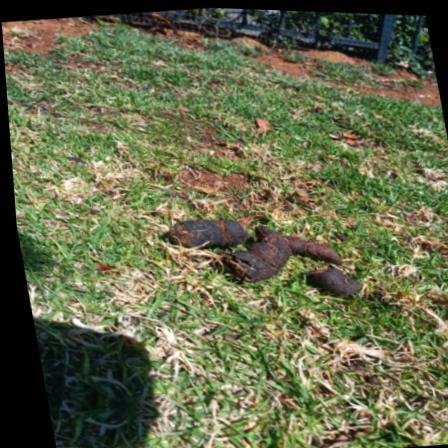dog-poop: (152, 182, 367, 328)
